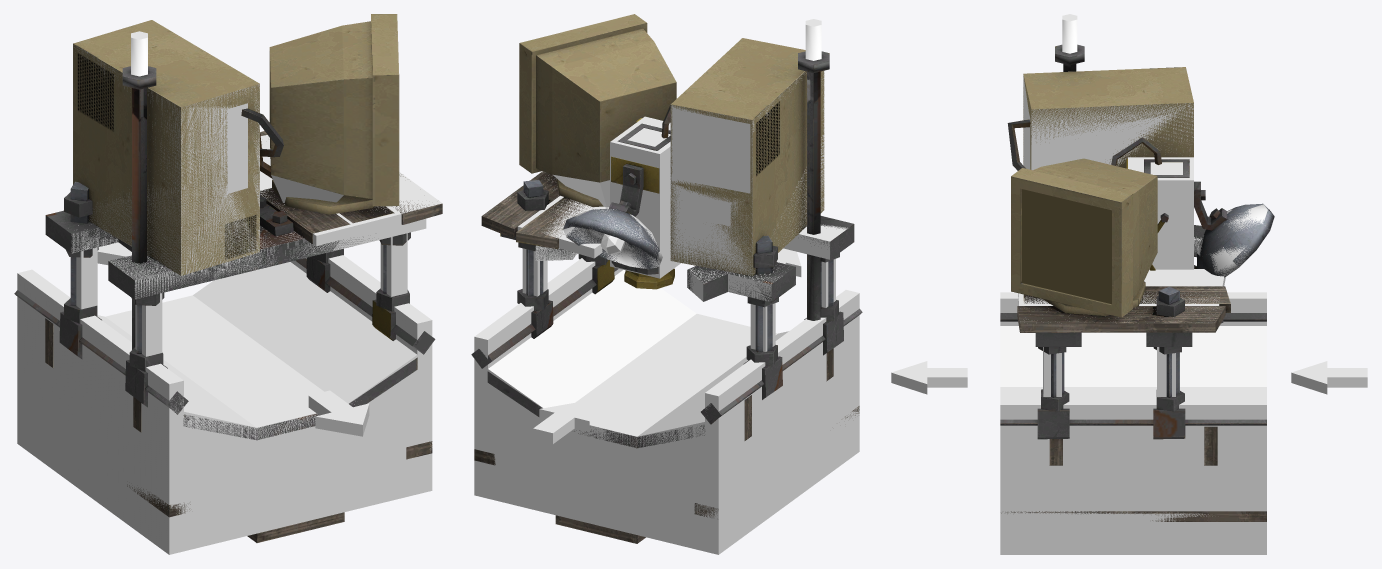
The model's file is OreAnalyzer_mirror.glb.
3 views of the same model, side by side, from view 1: azimuth 30°, elevation 25°; view 2: azimuth 150°, elevation 25°; view 3: azimuth 270°, elevation 25° (orthographic). The views are drawn at different scales.
Parts seen in each view (by area): view 1: OreAnalyzer_Col, OreAnalyzer_mirror, ghostarrow, ghostarrow (1); view 2: OreAnalyzer_Col, OreAnalyzer_mirror, ghostarrow (1); view 3: OreAnalyzer_Col, OreAnalyzer_mirror, ghostarrow, ghostarrow (1).
Boxes of the visible parts, x1,y1,x2,y2 form: OreAnalyzer_Col: (17,44,442,554); OreAnalyzer_mirror: (14,14,442,542); ghostarrow: (308,390,369,436); ghostarrow (1): (97,242,131,264); OreAnalyzer_Col: (474,71,859,554); OreAnalyzer_mirror: (471,14,862,543); ghostarrow (1): (533,401,589,443); OreAnalyzer_Col: (1000,75,1273,554); OreAnalyzer_mirror: (1000,14,1274,521); ghostarrow: (891,361,967,394); ghostarrow (1): (1291,361,1367,394).
Bounding box in the file's own units: 1.19 × 1.81 × 1.79.
Materials: 8 (3 with a texture image).
